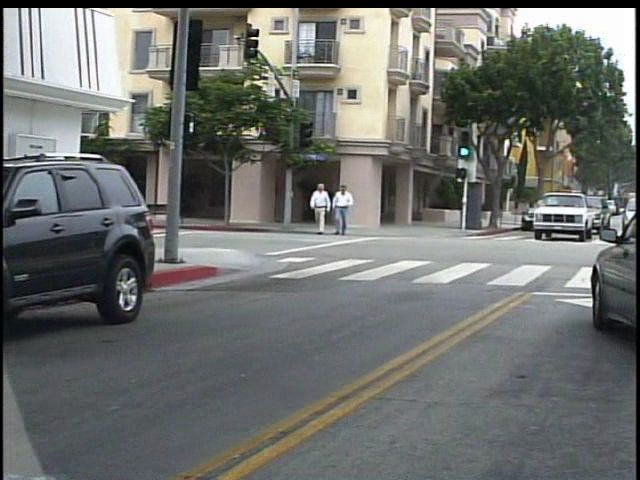person: (336, 180, 362, 240), (315, 179, 339, 241)
